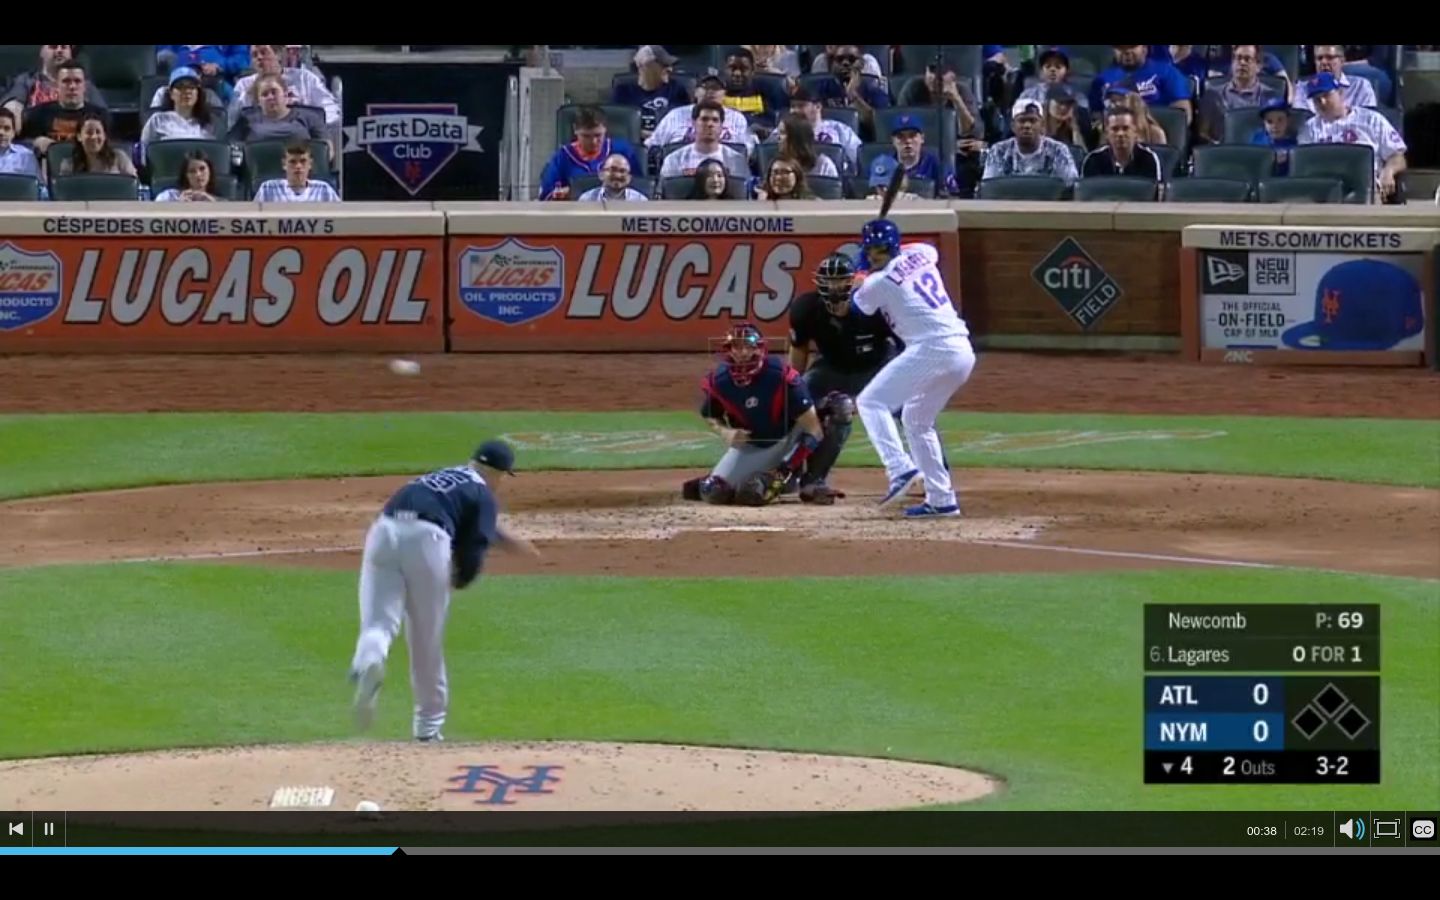baseball: (384, 351, 430, 382)
baseball bat: (882, 163, 905, 219)
baseball player: (330, 436, 544, 739), (852, 223, 982, 520), (678, 317, 858, 514)
referee: (784, 251, 916, 514)
